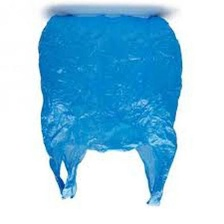plastic_bag: (29, 5, 189, 212)
